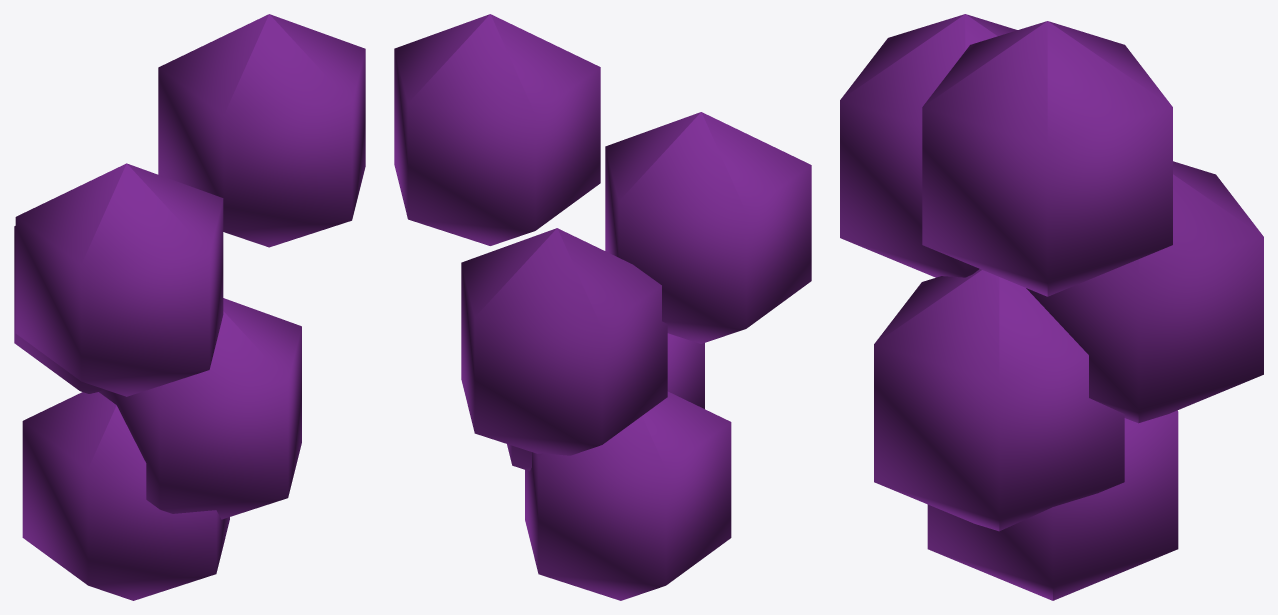
File: fruit-grape-gold-far.glb
The picture shows the model from 3 angles, left to right: view 1: azimuth 30°, elevation 25°; view 2: azimuth 150°, elevation 25°; view 3: azimuth 270°, elevation 25°; orthographic projection. The views are drawn at different scales.
Visible parts, largest first — view 1: fruit-grape-far; view 2: fruit-grape-far; view 3: fruit-grape-far.
Boxes of the visible parts, x1,y1,x2,y2 form: fruit-grape-far: [14, 14, 365, 600]; fruit-grape-far: [394, 14, 811, 600]; fruit-grape-far: [840, 14, 1263, 600].
Bounding box in the file's own units: 0.2778 × 0.4192 × 0.2451.
